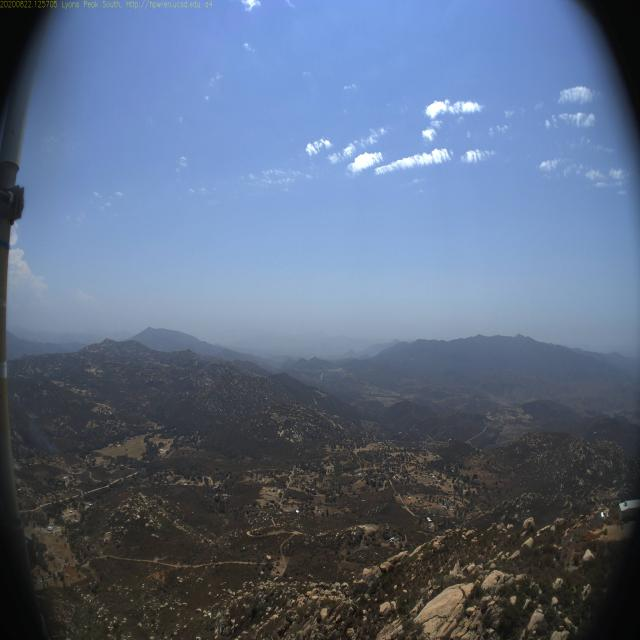smoke: (28, 411, 63, 462)
